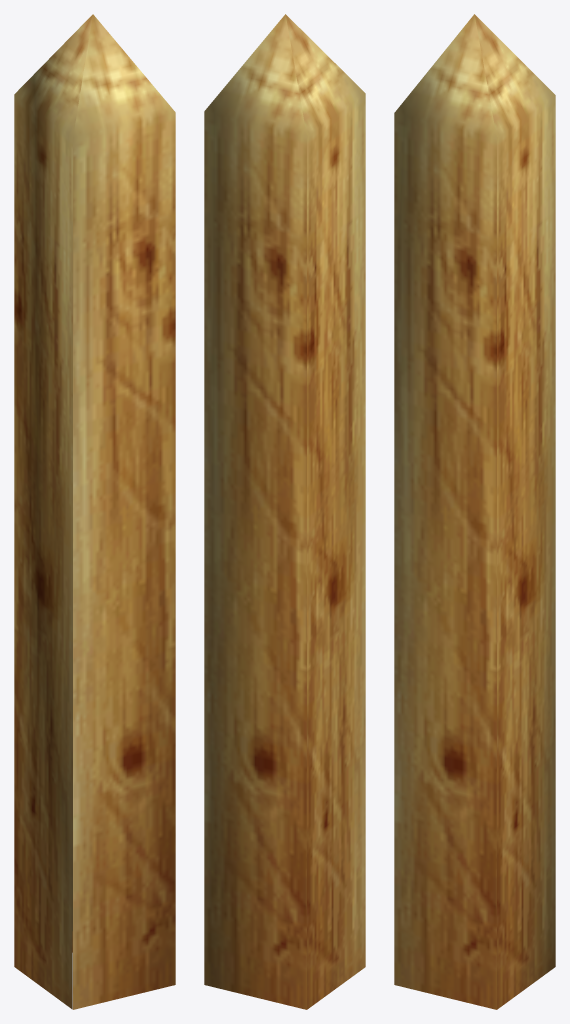
The model's file is elwynnwoodpost01.obj.
3 views of the same model, side by side, from view 1: azimuth 30°, elevation 25°; view 2: azimuth 150°, elevation 25°; view 3: azimuth 330°, elevation 25° (orthographic).
Visible parts, largest first — view 1: elwynnwoodpost01; view 2: elwynnwoodpost01; view 3: elwynnwoodpost01.
Part boxes in pixels (<box>): elwynnwoodpost01: <box>14,14,175,1009</box>; elwynnwoodpost01: <box>204,14,365,1009</box>; elwynnwoodpost01: <box>394,14,555,1009</box>.
Size of the model in its own units: 0.2748 by 2.46 by 0.2725.
Materials: 1 (1 with a texture image).
